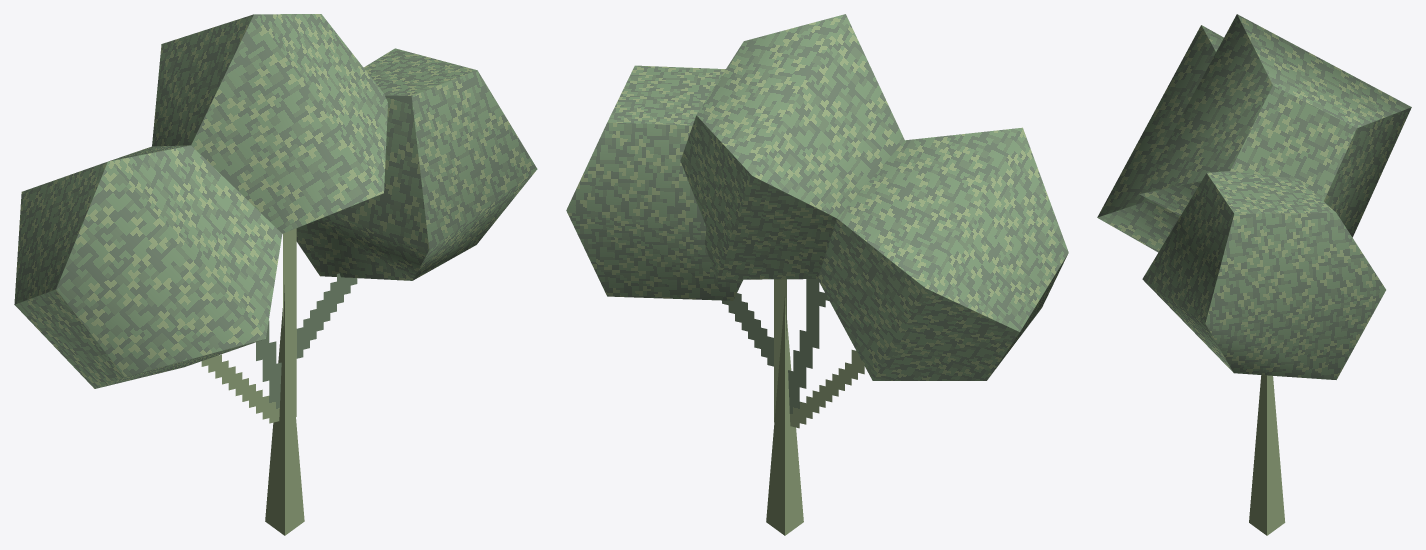
Rendered from 0521_Parsley.glb.
3 views of the same model, side by side, from view 1: azimuth 30°, elevation 25°; view 2: azimuth 150°, elevation 25°; view 3: azimuth 270°, elevation 25° (orthographic). The views are drawn at different scales.
Parts seen in each view (by area): view 1: part_0; view 2: part_0; view 3: part_0.
Part boxes in pixels (<box>): part_0: <box>14,14,537,535</box>; part_0: <box>566,14,1068,535</box>; part_0: <box>1097,14,1411,535</box>.
Size of the model in its own units: 0.0746 by 0.0793 by 0.046.
1 material, 1 textured.
